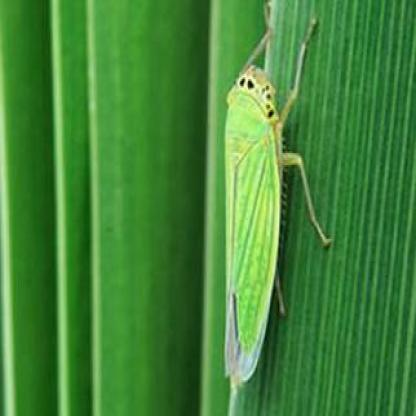Green-Leafhopper: (214, 10, 335, 388)
